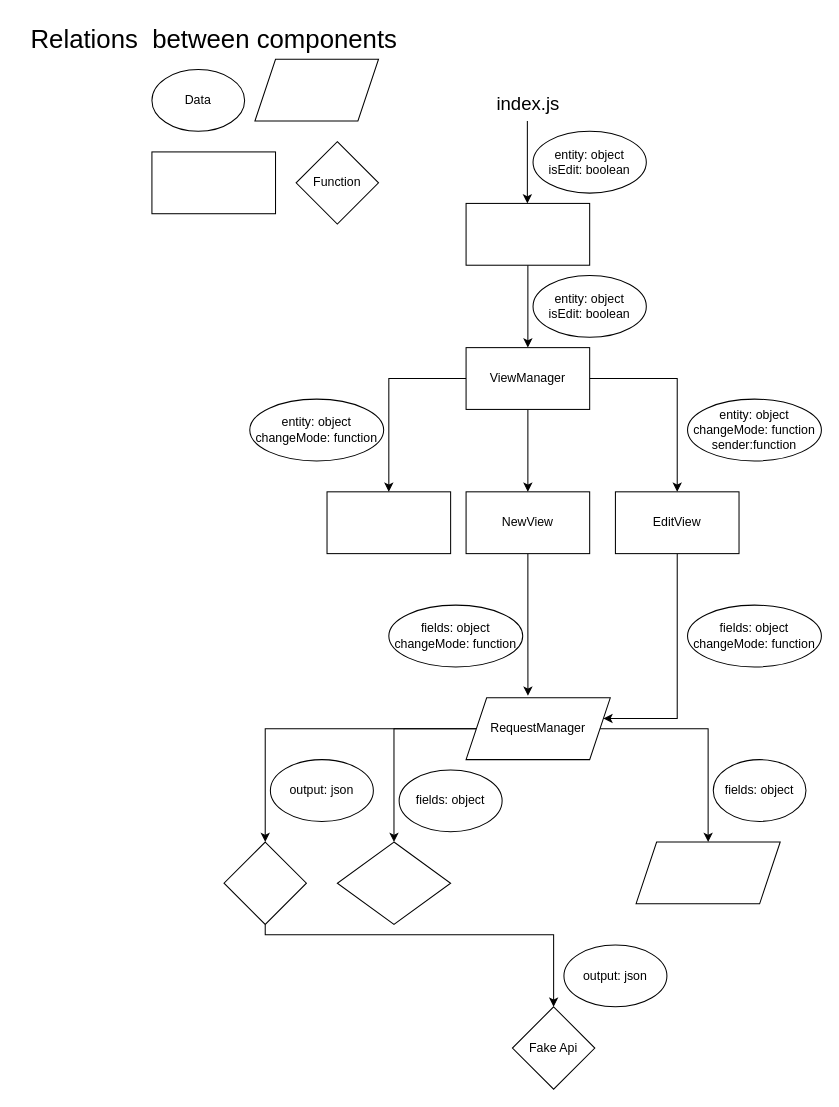
Image size: 839x1107. Some labels were removed from this diagram. Here are the shapes that lost their labels. From the top down, the box of each, then its label:
(254, 58, 379, 121): Component
(151, 151, 276, 214): React-component
(465, 202, 590, 265): App
(326, 491, 451, 554): ReviewView
(223, 841, 306, 924): submitter
(336, 841, 451, 924): outputMapper
(635, 841, 780, 904): Validator
